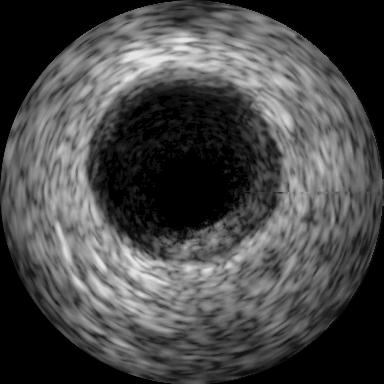Lumen: (150, 147, 233, 229)
